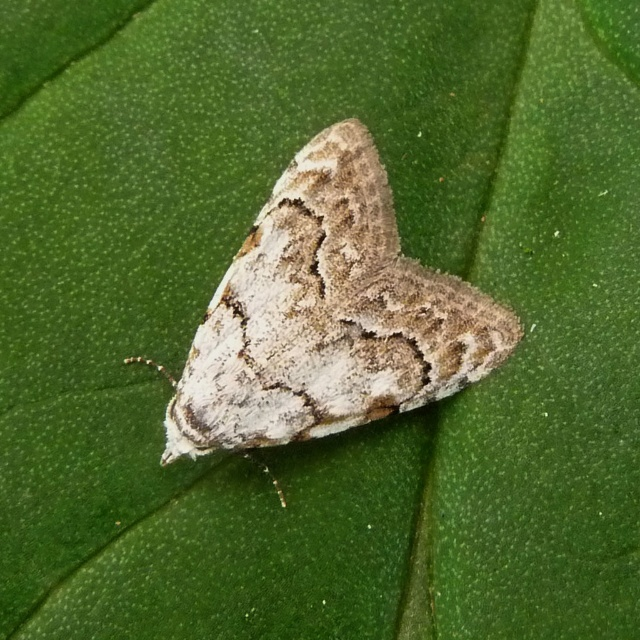Moths and butterflies: (121, 117, 528, 513)
